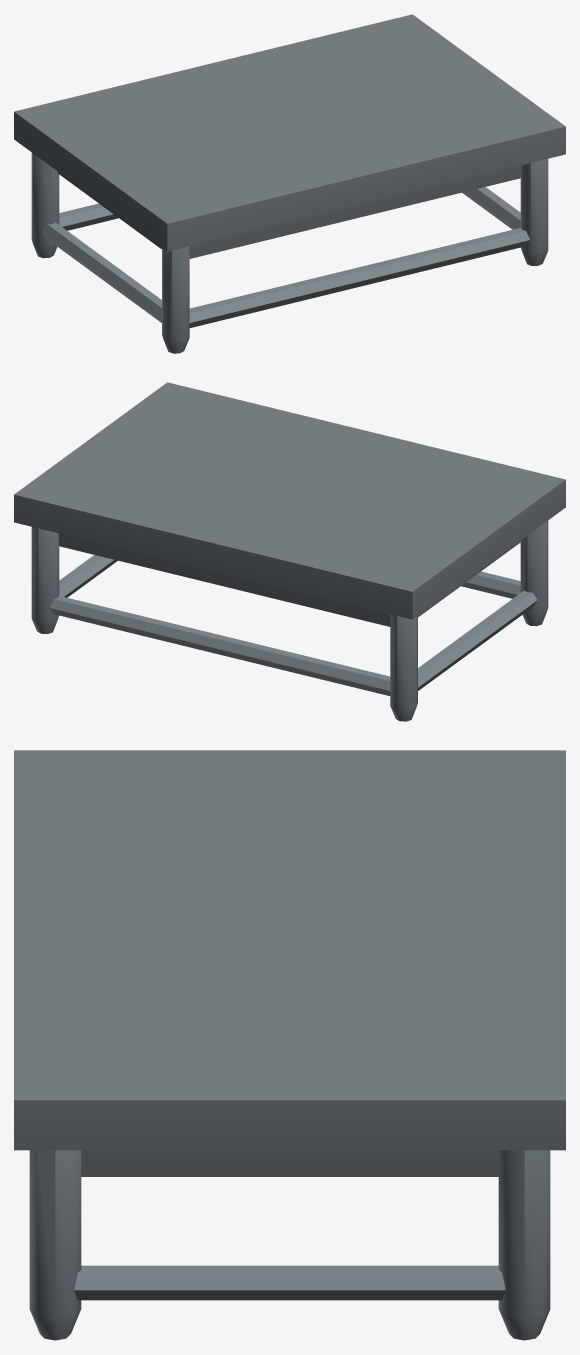
File: Kitchen Table-jrwQfpN0LV.glb
3 views of the same model, one above another, from view 1: azimuth 30°, elevation 25°; view 2: azimuth 150°, elevation 25°; view 3: azimuth 270°, elevation 25° (orthographic). The views are drawn at different scales.
Visible parts, largest first — view 1: kitchentable_A_large; view 2: kitchentable_A_large; view 3: kitchentable_A_large.
Part boxes in pixels (x1,y1,x2,y2): kitchentable_A_large: (14,14,565,353); kitchentable_A_large: (14,382,565,721); kitchentable_A_large: (14,750,565,1340).
Size of the model in its own units: 3 by 1 by 2.
Materials: 1 (1 with a texture image).
